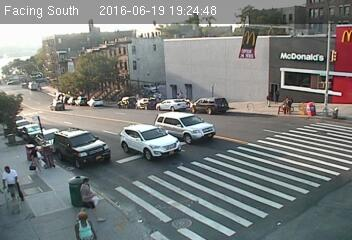neg: (244, 29, 259, 49), (143, 79, 154, 93), (174, 71, 184, 85)
pos: (72, 178, 97, 210), (21, 144, 45, 176), (72, 212, 92, 238)
